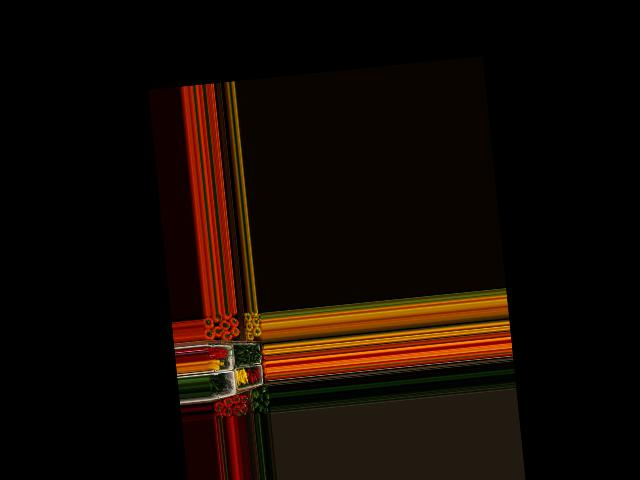bell_pepper: (250, 398, 262, 409)
